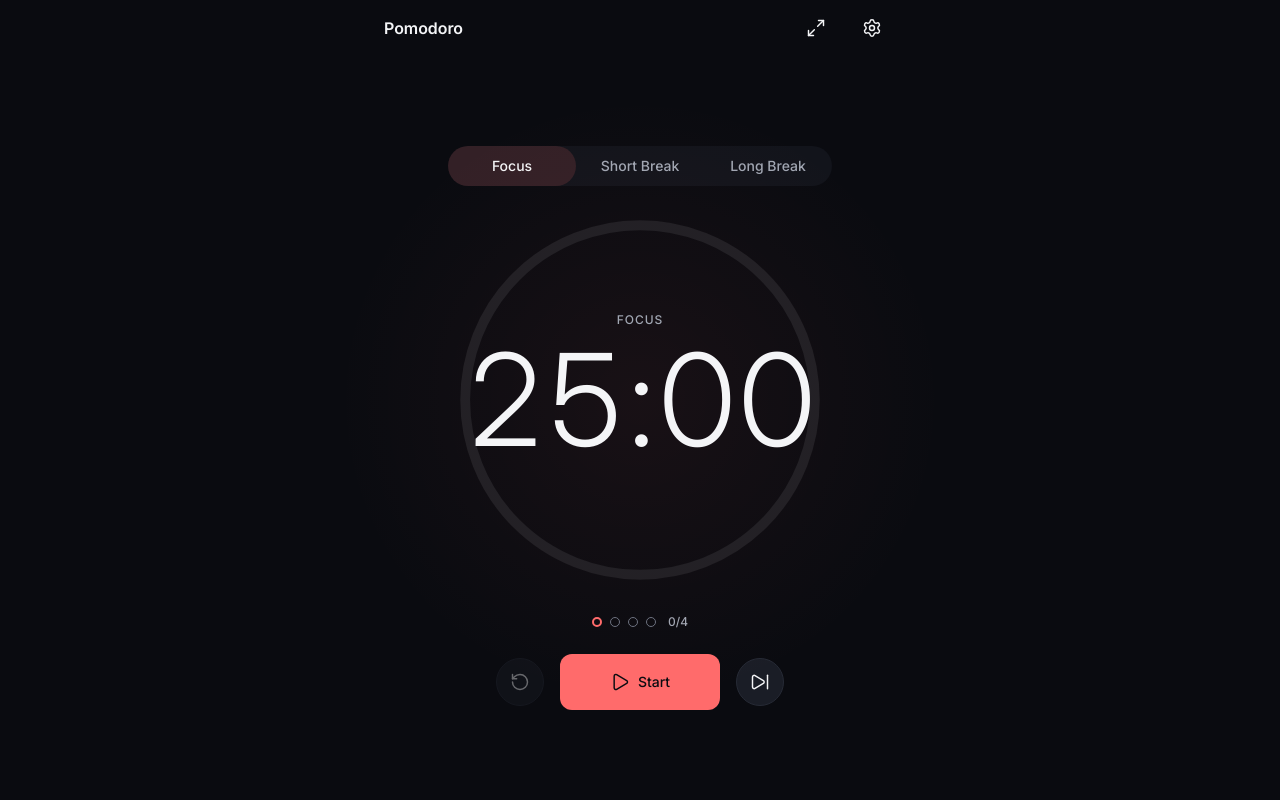
Settings notification status (POMO-AC15, POMO-AC25) › granted on open: G1 only, no button, no N text
Click the button named "Open settings" at (872, 28), box top-left (848, 4), bottom-right (896, 52)
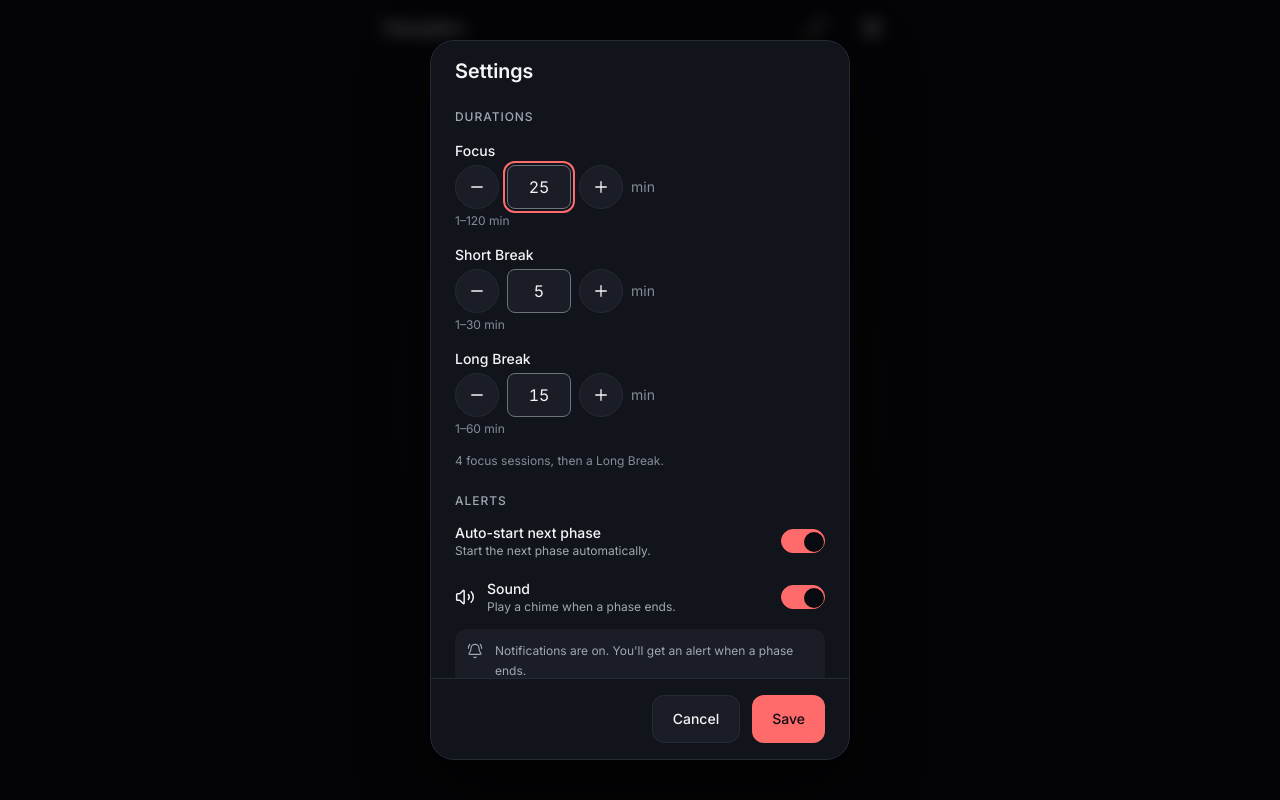
Result: the text "Notifications are on. You'll get an alert when a phase ends." is shown at top-left (495, 641), bottom-right (813, 678)
